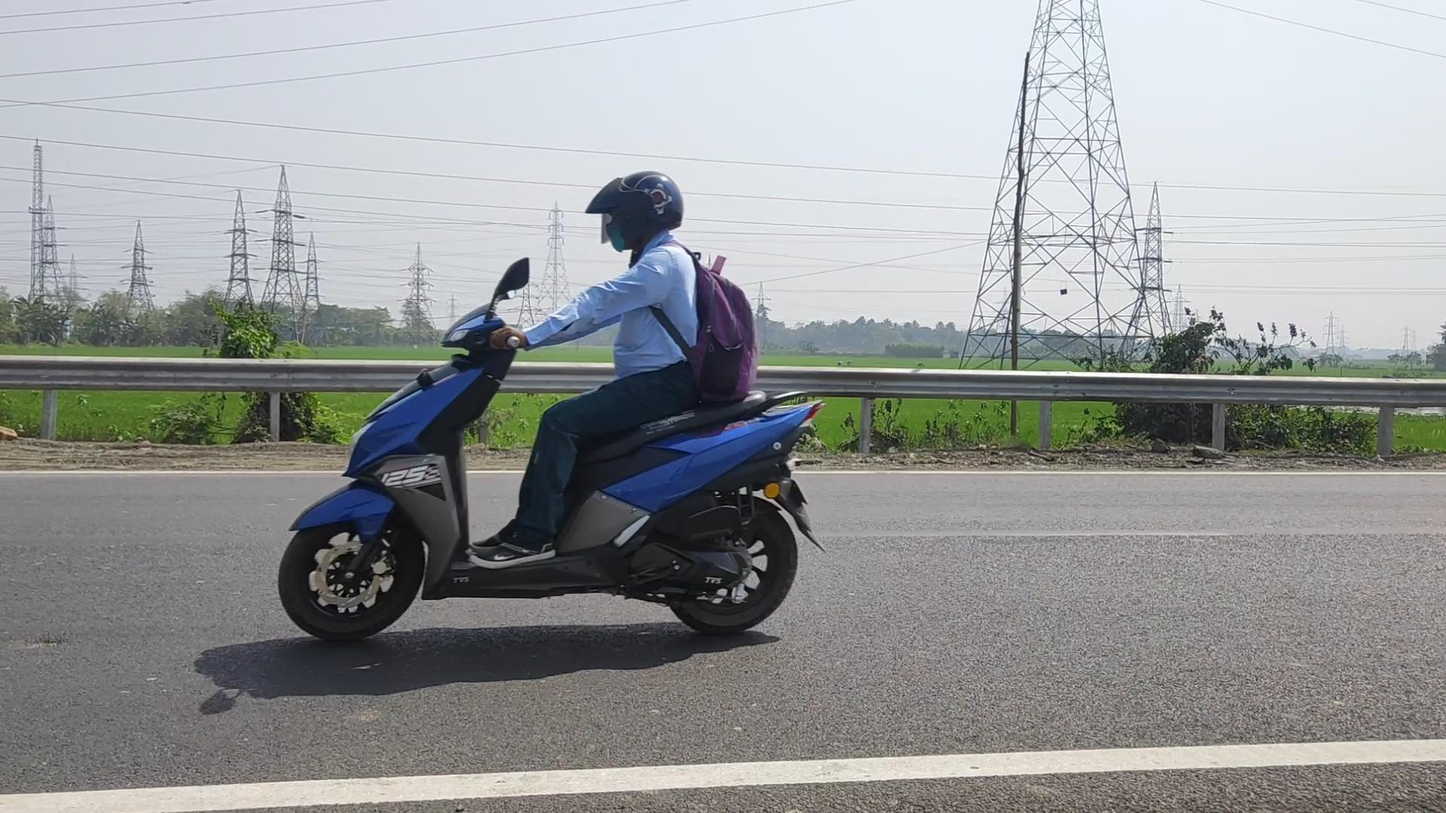bike: (280, 171, 825, 642)
